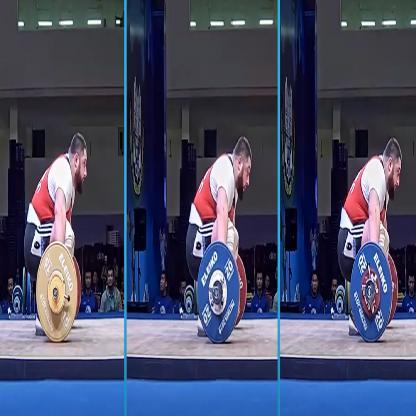Barbell: (360, 260, 384, 326), (206, 261, 231, 320), (46, 265, 68, 321)
